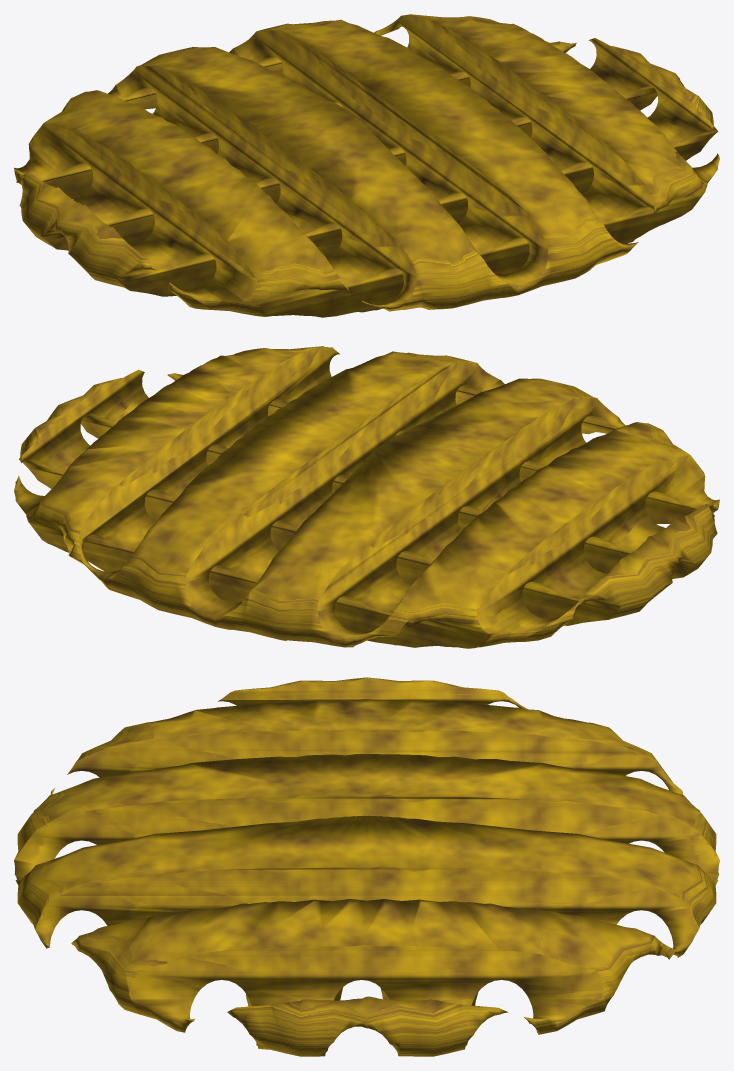
The model's file is fry1.gltf.
3 views of the same model, one above another, from view 1: azimuth 30°, elevation 25°; view 2: azimuth 150°, elevation 25°; view 3: azimuth 270°, elevation 25° (orthographic). The views are drawn at different scales.
Visible parts, largest first — view 1: fry; view 2: fry; view 3: fry.
Part boxes in pixels (x1=…): fry: x1=14, y1=14, x2=719, y2=317; fry: x1=14, y1=346, x2=719, y2=648; fry: x1=14, y1=677, x2=719, y2=1056.
Bounding box in the file's own units: 1.08 × 0.1909 × 0.923.
1 material, 1 textured.
